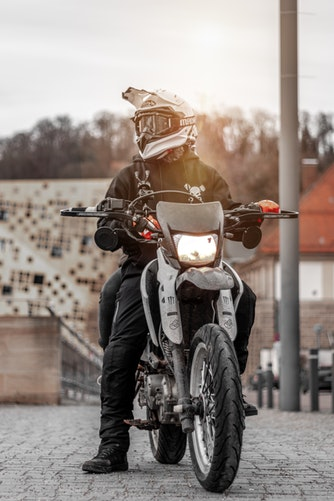helmet: (121, 79, 200, 159)
